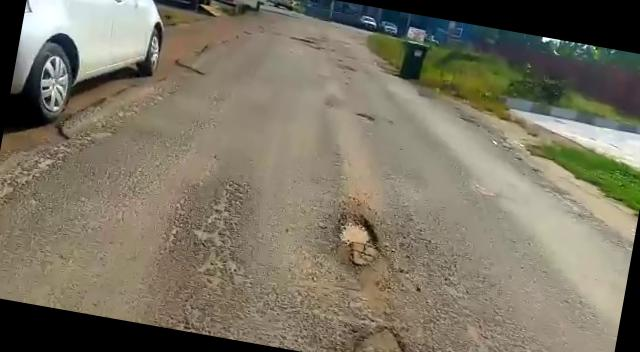pothole: (344, 317, 532, 352), (327, 212, 383, 268)
